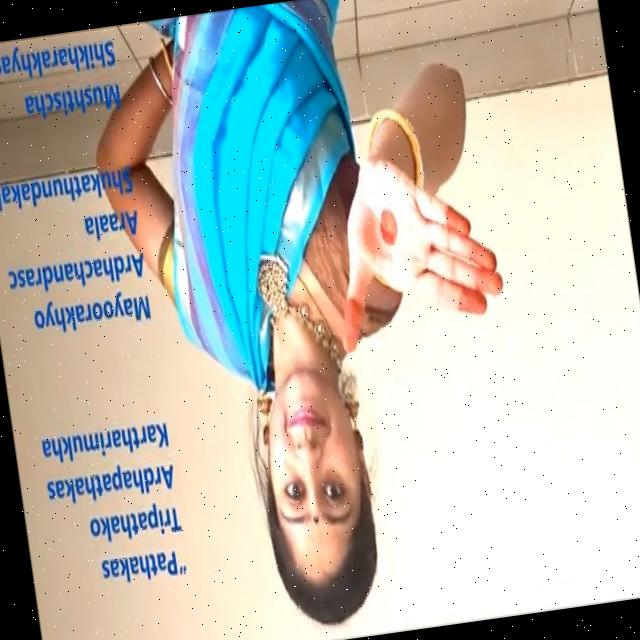Ardhachandra: (313, 125, 524, 382)
lady: (226, 368, 407, 622)
text: (26, 392, 210, 618), (0, 149, 161, 352), (0, 25, 131, 138)
